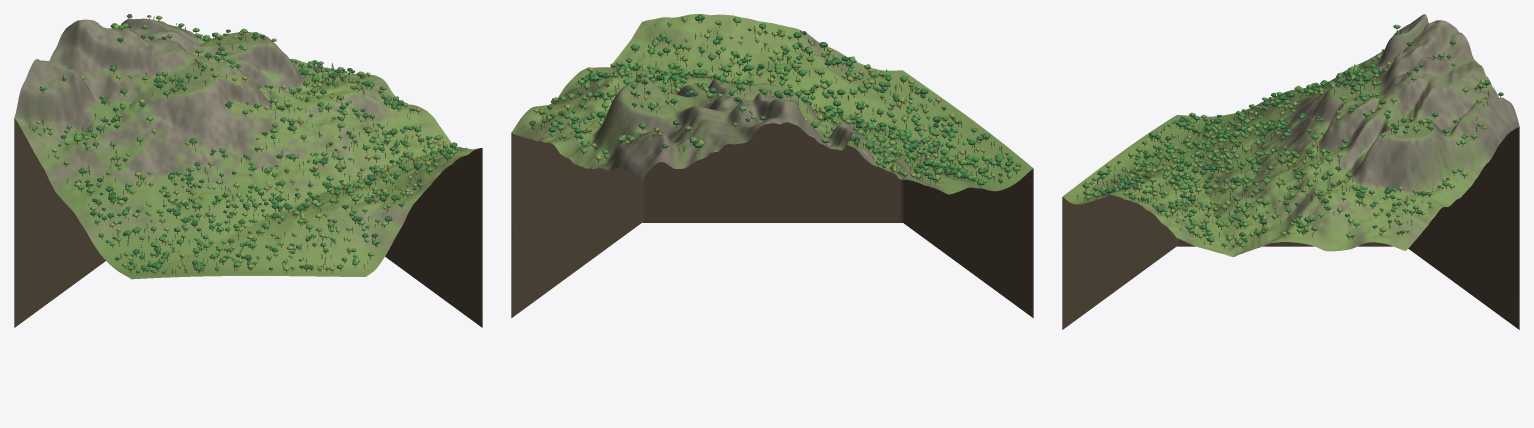
The picture shows the model from 3 angles, left to right: view 1: azimuth 30°, elevation 25°; view 2: azimuth 150°, elevation 25°; view 3: azimuth 270°, elevation 25°; orthographic projection. The views are drawn at different scales.
Parts seen in each view (by area): view 1: terrain, hex_side_cut, broadleaf_canopy, trunks, conifer_canopy; view 2: hex_side_cut, terrain, broadleaf_canopy, trunks, conifer_canopy; view 3: terrain, hex_side_cut, broadleaf_canopy, trunks, conifer_canopy.
Boxes of the visible parts, x1=… form: terrain: x1=14, y1=18, x2=480, y2=279; hex_side_cut: x1=14, y1=118, x2=482, y2=327; broadleaf_canopy: x1=32, y1=14, x2=459, y2=273; trunks: x1=29, y1=18, x2=466, y2=274; conifer_canopy: x1=29, y1=16, x2=460, y2=271; hex_side_cut: x1=511, y1=122, x2=1033, y2=317; terrain: x1=511, y1=14, x2=1033, y2=194; broadleaf_canopy: x1=529, y1=14, x2=1020, y2=184; trunks: x1=532, y1=20, x2=1020, y2=186; conifer_canopy: x1=540, y1=24, x2=1020, y2=183; terrain: x1=1062, y1=14, x2=1519, y2=256; hex_side_cut: x1=1062, y1=127, x2=1519, y2=329; broadleaf_canopy: x1=1082, y1=24, x2=1503, y2=247; trunks: x1=1077, y1=29, x2=1500, y2=248; conifer_canopy: x1=1077, y1=30, x2=1488, y2=246.
Size of the model in its own units: 4330 by 3219 by 5000.
6 materials, 1 textured.
